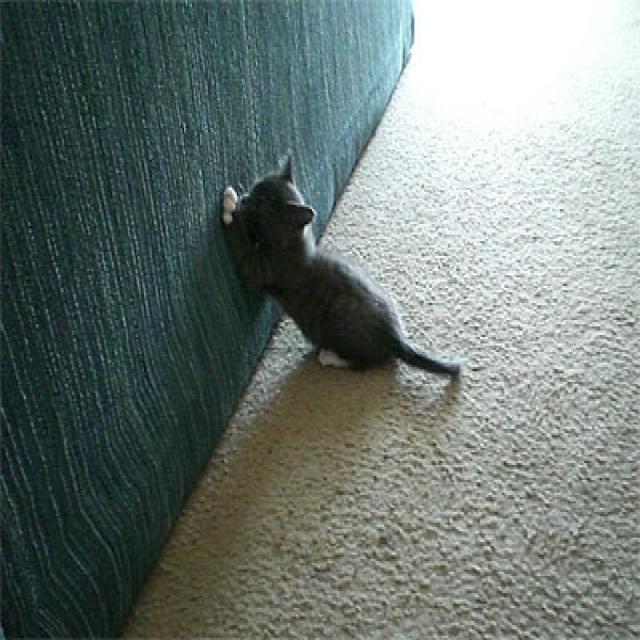cat: (218, 152, 462, 386)
